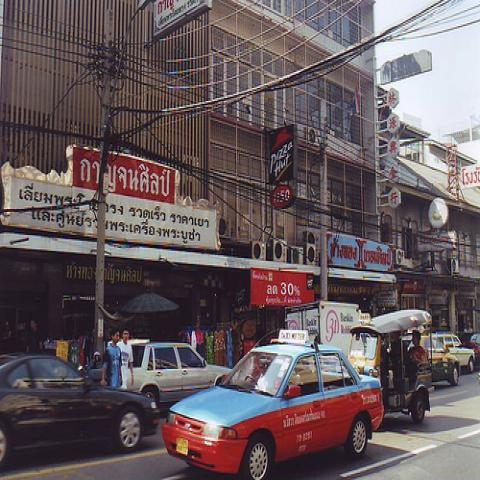car: (166, 328, 385, 478), (0, 351, 160, 471), (126, 342, 231, 402), (421, 329, 464, 382), (432, 332, 475, 374), (459, 332, 479, 366)
